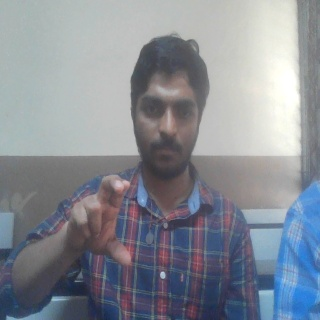Face: (128, 34, 210, 181)
No: (63, 170, 134, 271)
